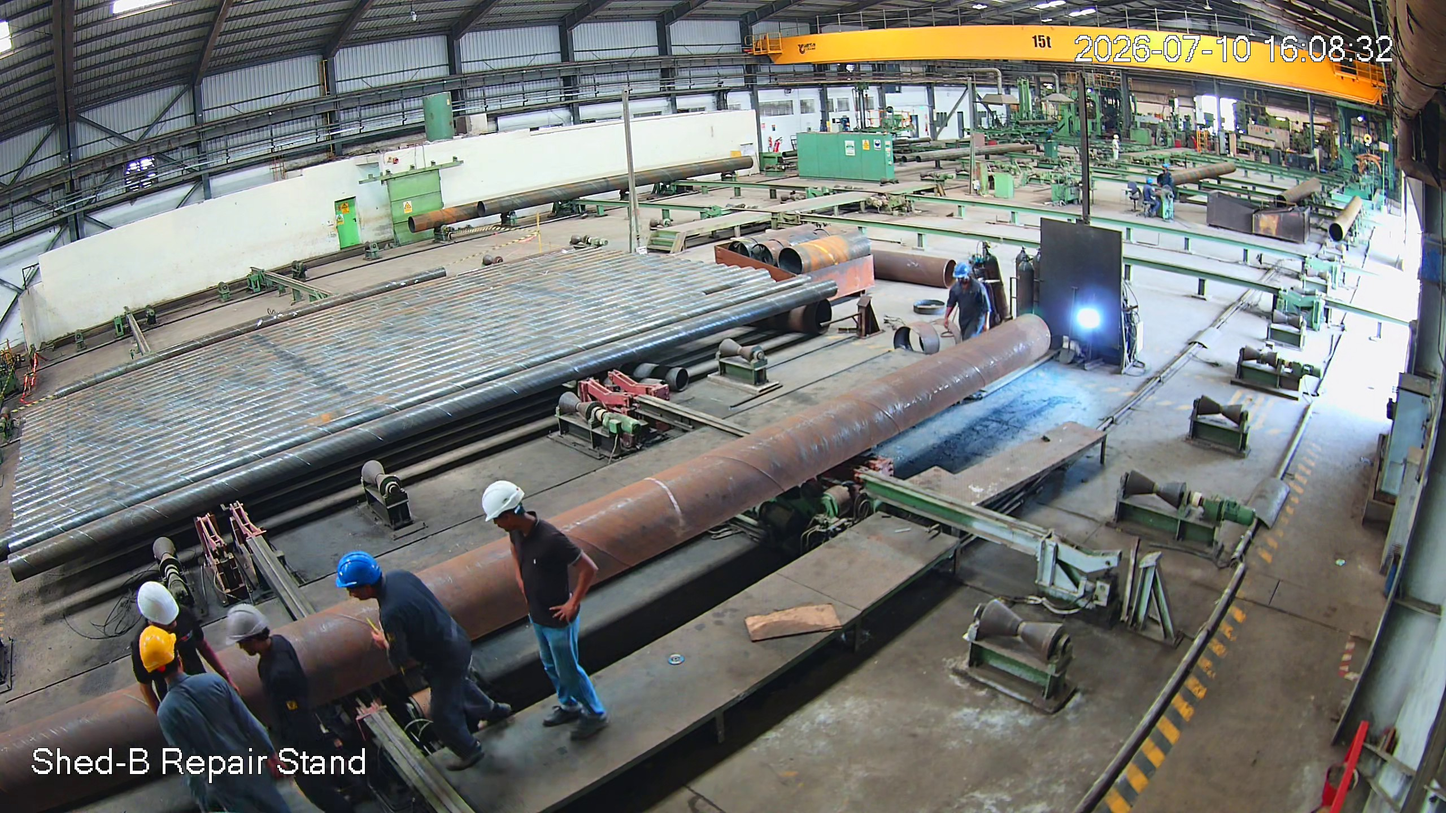Helmet: (323, 530, 405, 619), (129, 622, 198, 703), (479, 467, 540, 555), (221, 595, 287, 674), (950, 258, 974, 289)
Person: (330, 535, 504, 807), (484, 471, 631, 770), (123, 637, 277, 813), (233, 598, 339, 813), (945, 261, 989, 356)
